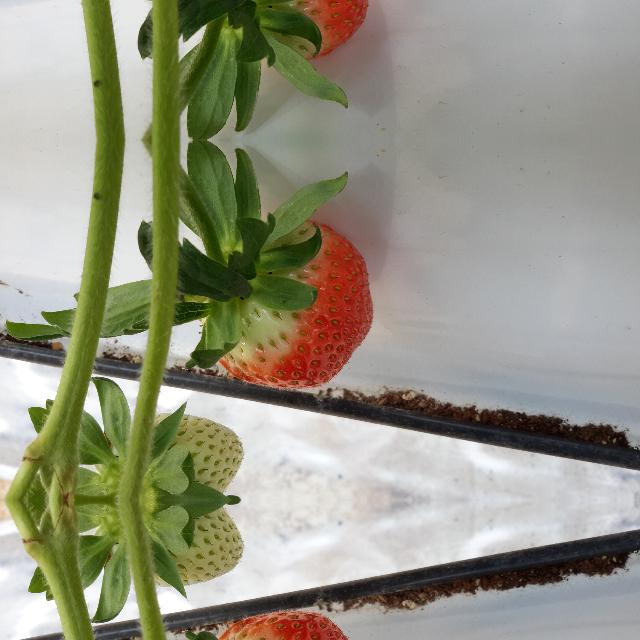Health_100: (218, 218, 374, 388), (217, 0, 374, 62)
Health_25: (130, 410, 244, 496), (130, 504, 244, 590)
